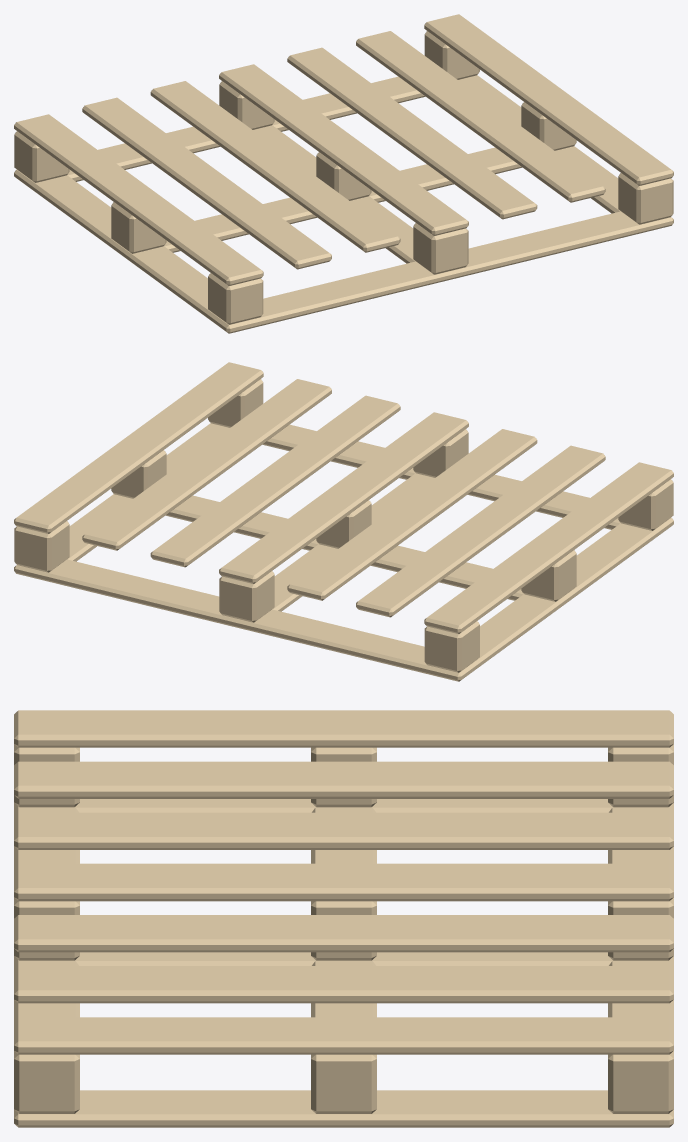
File: palete_medio.glb
The picture shows the model from 3 angles, top to bottom: view 1: azimuth 30°, elevation 25°; view 2: azimuth 150°, elevation 25°; view 3: azimuth 270°, elevation 25°; orthographic projection. The views are drawn at different scales.
Parts seen in each view (by area): view 1: corpo; view 2: corpo; view 3: corpo.
Part boxes in pixels (x1,y1,x2,y2): corpo: (14,14,673,333); corpo: (14,362,673,681); corpo: (14,710,673,1127).
Bounding box in the file's own units: 1.2 × 0.144 × 1.
